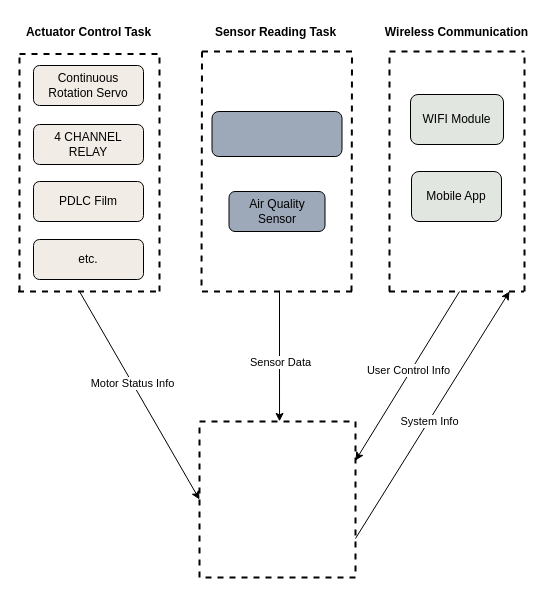
Image size: 553x596. Some labels were removed from this diagram. Each missing label, with the box of its shape:
System Control Task: (198, 420, 356, 578)
Temperature- Humidity Sensor: (211, 110, 342, 156)
